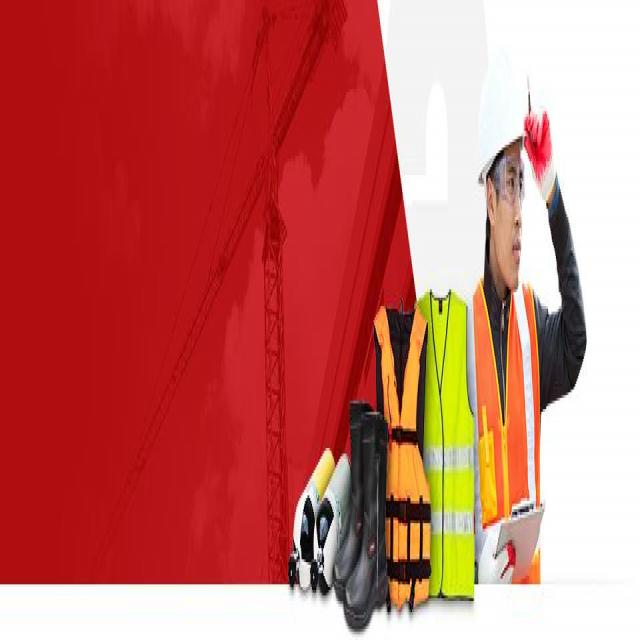Reflective-Jacket: (469, 273, 545, 582), (418, 275, 477, 604)
Safety-Helmet: (475, 53, 528, 186)
